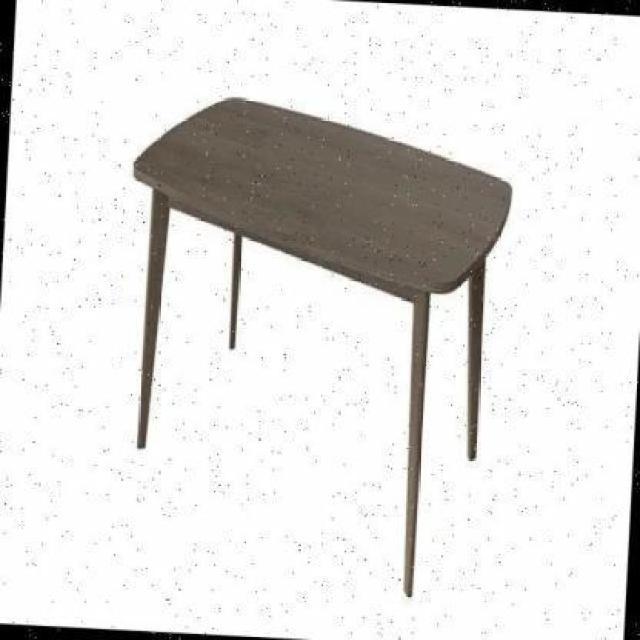tables: (131, 94, 512, 597)
